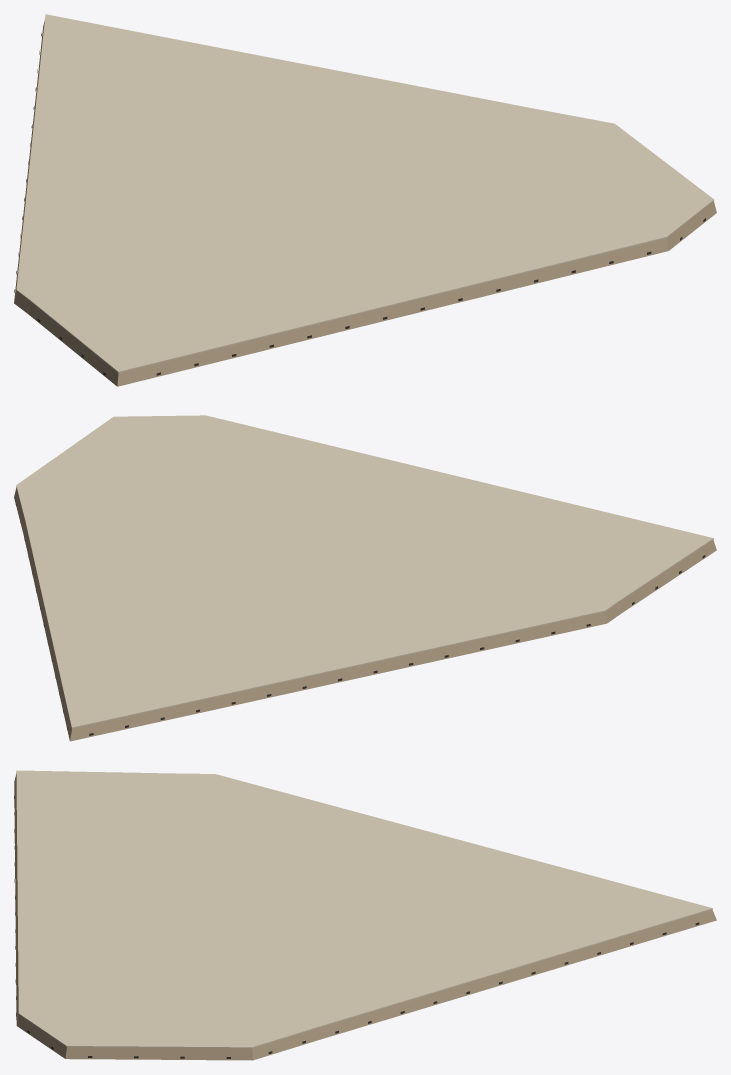
File: festung-ravelin-5.glb
The picture shows the model from 3 angles, top to bottom: view 1: azimuth 30°, elevation 25°; view 2: azimuth 150°, elevation 25°; view 3: azimuth 270°, elevation 25°; orthographic projection. The views are drawn at different scales.
Visible parts, largest first — view 1: festung-ravelin-5_lod0; view 2: festung-ravelin-5_lod0; view 3: festung-ravelin-5_lod0.
Part boxes in pixels (x1,y1,x2,y2): festung-ravelin-5_lod0: (14,14,716,386); festung-ravelin-5_lod0: (14,415,716,741); festung-ravelin-5_lod0: (14,770,716,1060).
Size of what is drawn, in the model's own units: 120 by 2.45 by 128.
